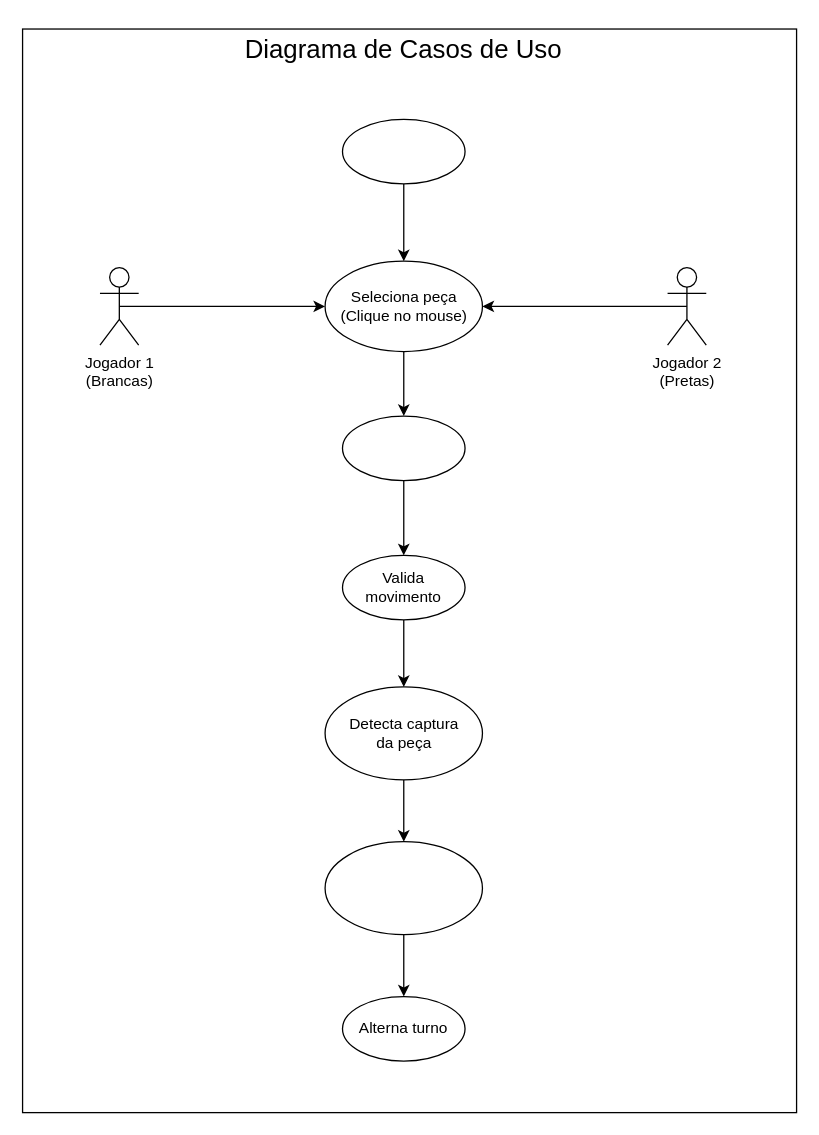
Image size: 819x1135. Some labels were removed from this diagram. Here are the shapes that lost their labels. From the top down, the centre of each, then its label:
point (403, 151): Inicia o jogo
point (403, 448): Movimenta peça
point (403, 887): Detecta xeque e xeque-mate
